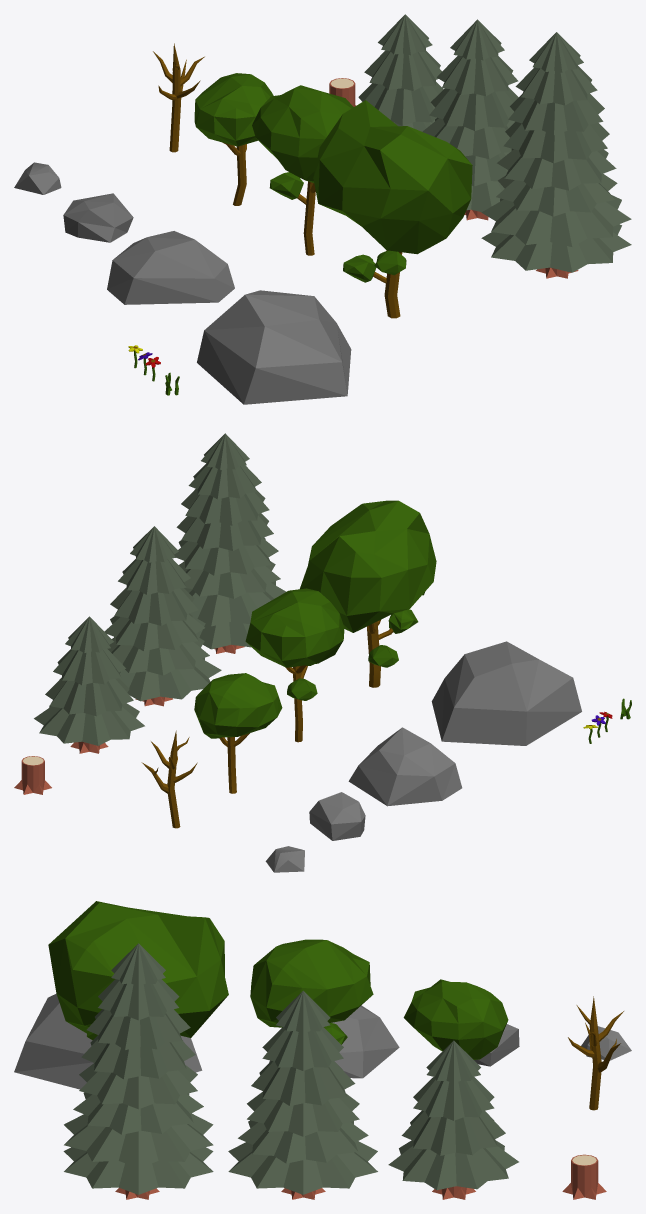
The model's file is Outdoor_Trees_Rocks_Foliage.fbx.
3 renders of one model, top to bottom at view 1: azimuth 30°, elevation 25°; view 2: azimuth 150°, elevation 25°; view 3: azimuth 270°, elevation 25°, orthographic. The views are drawn at different scales.
Parts seen in each view (by area): view 1: Pine_Tree_Large, Oak_Tree_Large, Rock_Large, Pine_Tree_med, Rock_Med, Oak_Tree_Med, Pine_Tree_Small, Oak_Tree_Small, Rock_Small, Oak_Tree_Dead, Rock_Super_Small; view 2: Pine_Tree_Large, Oak_Tree_Large, Pine_Tree_med, Rock_Large, Pine_Tree_Small, Oak_Tree_Med, Rock_Med, Oak_Tree_Small, Rock_Small, Oak_Tree_Dead, Pine_Tree_Stump, Rock_Super_Small; view 3: Pine_Tree_Large, Pine_Tree_med, Oak_Tree_Large, Pine_Tree_Small, Oak_Tree_Med, Oak_Tree_Small, Rock_Large, Rock_Med, Oak_Tree_Dead, Pine_Tree_Stump, Rock_Small, Rock_Super_Small.
Part boxes in pixels (x1,y1,x2,y2): Pine_Tree_Large: [481, 32, 631, 278]; Oak_Tree_Large: [313, 100, 472, 318]; Rock_Large: [197, 290, 351, 404]; Pine_Tree_med: [422, 19, 518, 220]; Rock_Med: [107, 231, 234, 304]; Oak_Tree_Med: [252, 85, 353, 255]; Pine_Tree_Small: [358, 14, 443, 131]; Oak_Tree_Small: [194, 73, 273, 205]; Rock_Small: [63, 193, 133, 242]; Oak_Tree_Dead: [153, 43, 204, 152]; Rock_Super_Small: [14, 162, 61, 194]; Pine_Tree_Large: [174, 433, 286, 653]; Oak_Tree_Large: [300, 500, 436, 687]; Pine_Tree_med: [104, 526, 221, 706]; Rock_Large: [431, 641, 581, 745]; Pine_Tree_Small: [34, 616, 144, 753]; Oak_Tree_Med: [245, 588, 344, 742]; Rock_Med: [348, 727, 462, 806]; Oak_Tree_Small: [194, 673, 282, 793]; Rock_Small: [309, 792, 365, 840]; Oak_Tree_Dead: [141, 730, 197, 828]; Pine_Tree_Stump: [14, 756, 51, 794]; Rock_Super_Small: [265, 846, 304, 872]; Pine_Tree_Large: [63, 943, 213, 1199]; Pine_Tree_med: [228, 990, 377, 1199]; Oak_Tree_Large: [48, 901, 228, 1040]; Pine_Tree_Small: [388, 1040, 518, 1199]; Oak_Tree_Med: [250, 939, 373, 1044]; Oak_Tree_Small: [403, 979, 508, 1059]; Rock_Large: [14, 993, 202, 1089]; Rock_Med: [269, 1005, 399, 1078]; Oak_Tree_Dead: [568, 996, 623, 1110]; Pine_Tree_Stump: [562, 1154, 606, 1199]; Rock_Small: [474, 1024, 519, 1066]; Rock_Super_Small: [581, 1026, 631, 1060].
Bounding box in the file's own units: 1988 × 994 × 2096.
